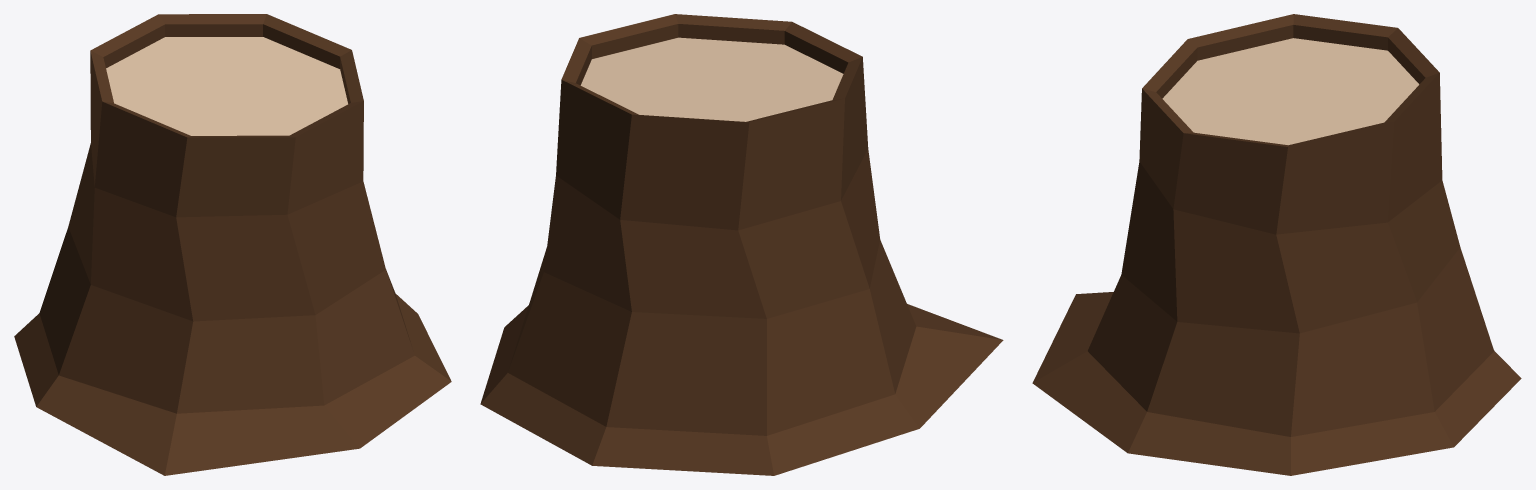
File: treestump.fbx
3 views of the same model, side by side, from view 1: azimuth 30°, elevation 25°; view 2: azimuth 150°, elevation 25°; view 3: azimuth 270°, elevation 25° (orthographic). The views are drawn at different scales.
Parts seen in each view (by area): view 1: Cylinder; view 2: Cylinder; view 3: Cylinder.
Part boxes in pixels (x1,y1,x2,y2): Cylinder: [14, 14, 451, 475]; Cylinder: [480, 14, 1003, 475]; Cylinder: [1032, 14, 1521, 475].
Size of the model in its own units: 72.69 by 53.39 by 77.07.
